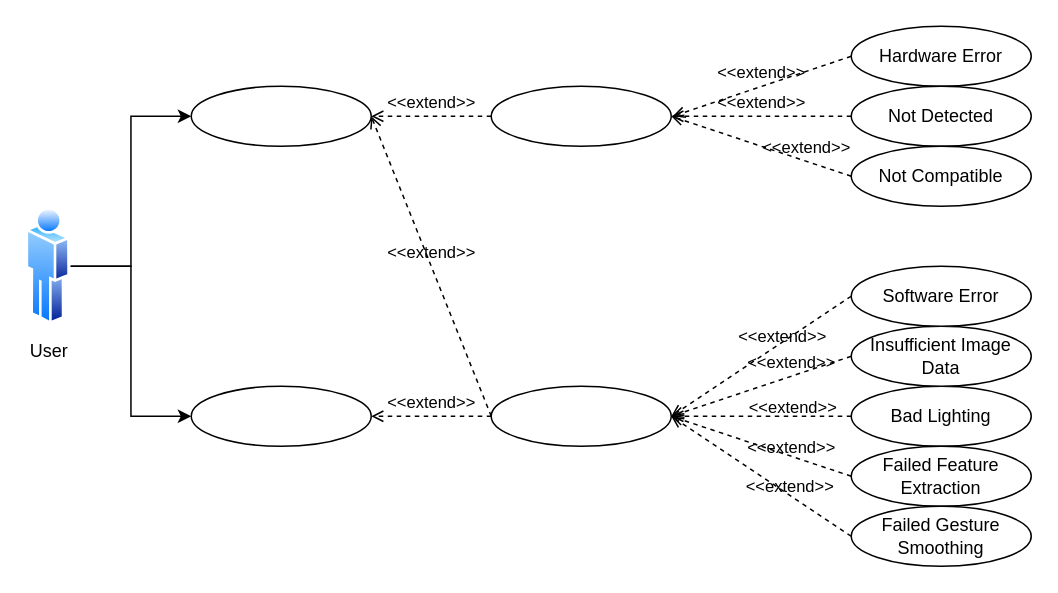
This 1058x593 diagram has some shape labels left out. Each missing label, with the box of its shape:
Camera Exception: (490, 85, 671, 146)
Image Processing Exception: (490, 385, 671, 446)
Start Tracking Gestures: (190, 85, 371, 146)
Stop Tracking Gestures: (190, 385, 371, 446)
